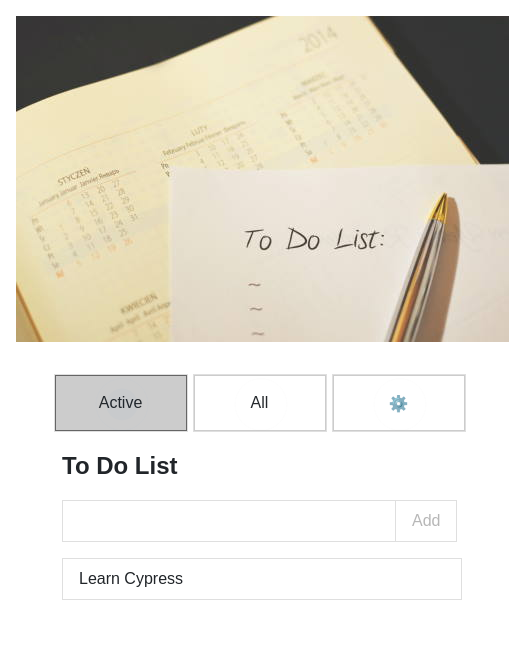
Test: To Do List › Can add a new to-do with enter
Type "A new to-do with enter" into the 1st field with test id "new-todo" at (229, 521), box [62,500,396,542]
Then press Enter
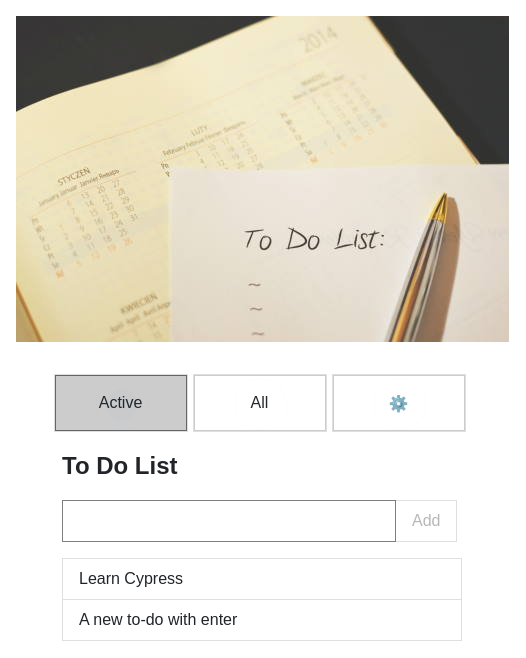
Check: the list item "A new to-do with enter" is shown, box [62,600,462,641]
